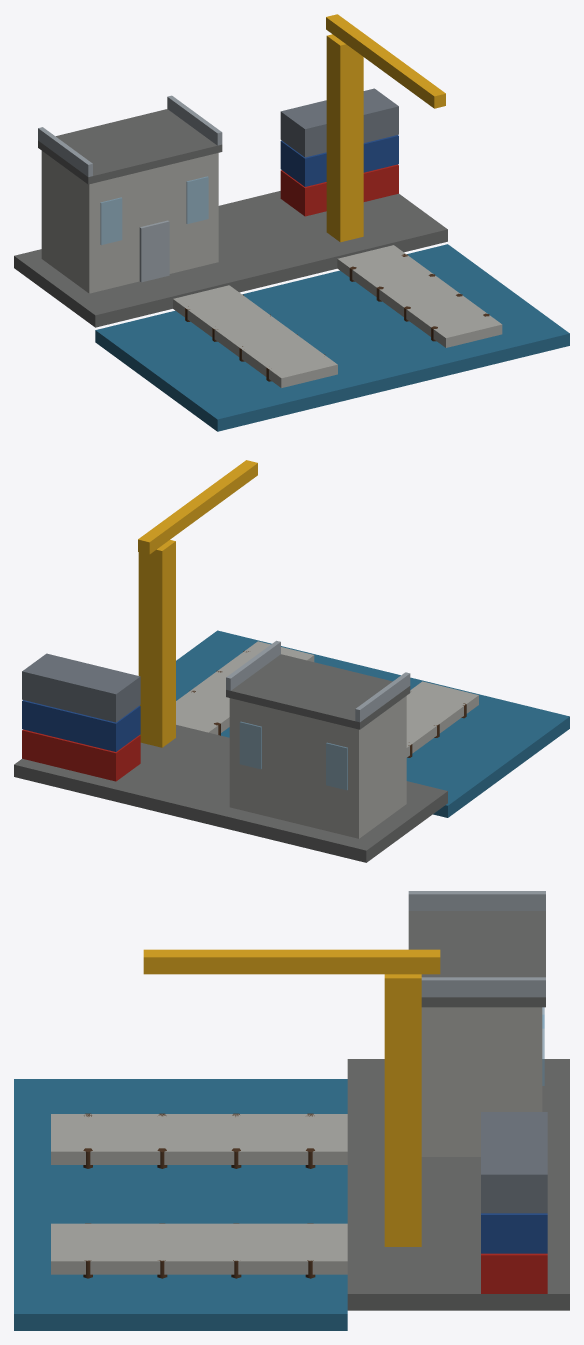
Rendered from bld_special_port_a06.glb.
The picture shows the model from 3 angles, top to bottom: view 1: azimuth 30°, elevation 25°; view 2: azimuth 150°, elevation 25°; view 3: azimuth 270°, elevation 25°; orthographic projection. The views are drawn at different scales.
Parts seen in each view (by area): view 1: body, crane; view 2: body, crane; view 3: body, crane.
Part boxes in pixels (box(x1,y1,x2,y2)): body: box(14, 88, 569, 431); crane: box(326, 14, 445, 242); body: box(14, 630, 569, 862); crane: box(138, 460, 257, 747); body: box(14, 891, 569, 1330); crane: box(143, 949, 440, 1246).
Size of what is drawn, in the model's own units: 15 by 9.9 by 15.
